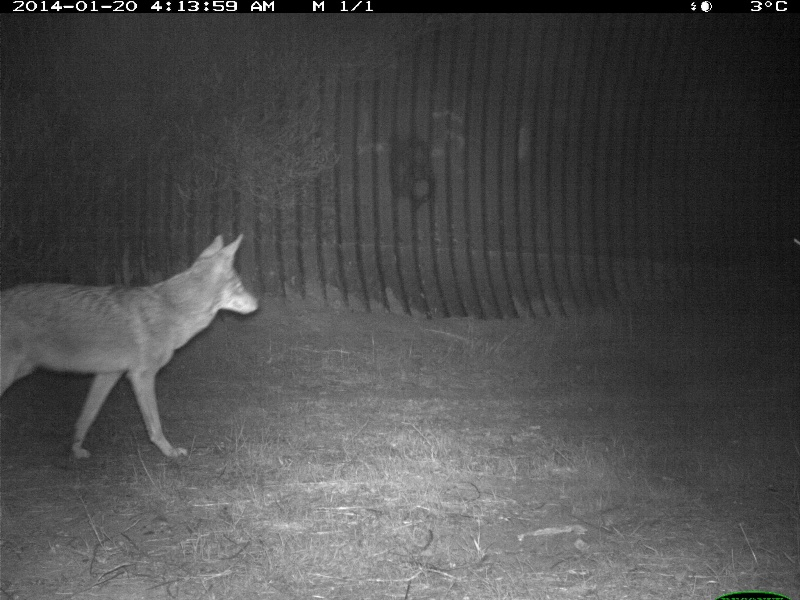coyote: (1, 233, 265, 468)
